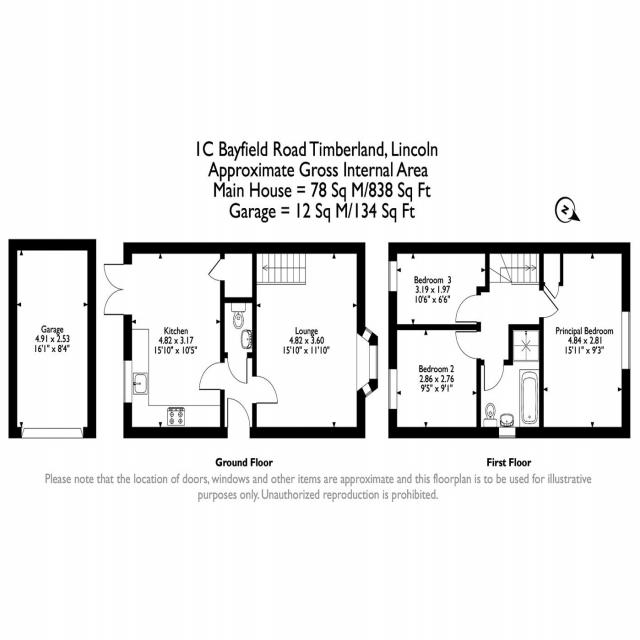DOOR: (227, 397, 251, 439), (454, 330, 482, 360), (198, 361, 225, 391), (252, 375, 279, 404), (455, 294, 481, 323), (483, 359, 505, 392), (227, 352, 248, 385), (539, 289, 560, 319), (207, 258, 225, 282)
DOUBLE DOOR: (103, 262, 132, 317)
ROOM: (252, 242, 379, 439), (103, 242, 225, 439), (539, 242, 631, 439), (388, 324, 481, 439), (388, 242, 490, 330)
WINDOW: (621, 310, 631, 371), (123, 359, 133, 403), (388, 368, 398, 410), (388, 261, 398, 292), (369, 345, 378, 379), (498, 426, 516, 439), (361, 327, 373, 343), (361, 382, 373, 398)
